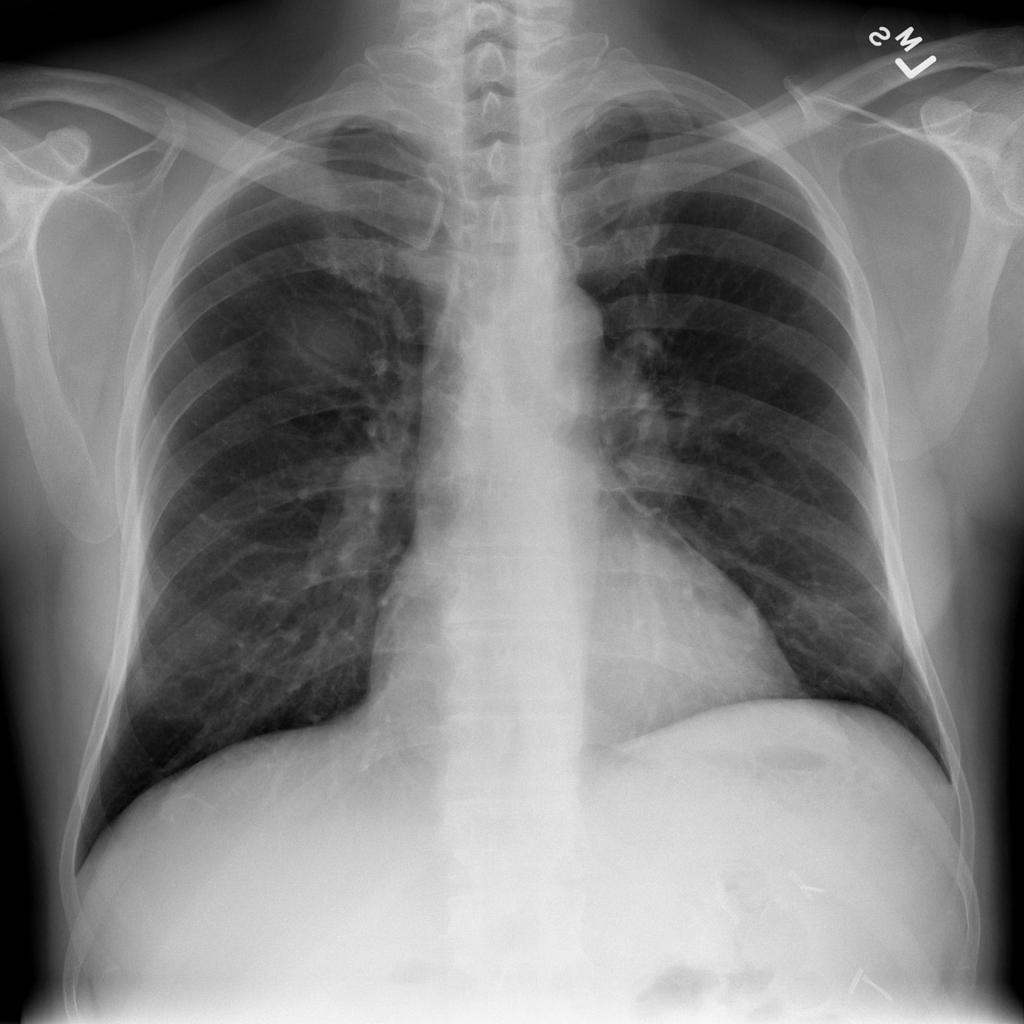nodule: (248, 289, 384, 410)
